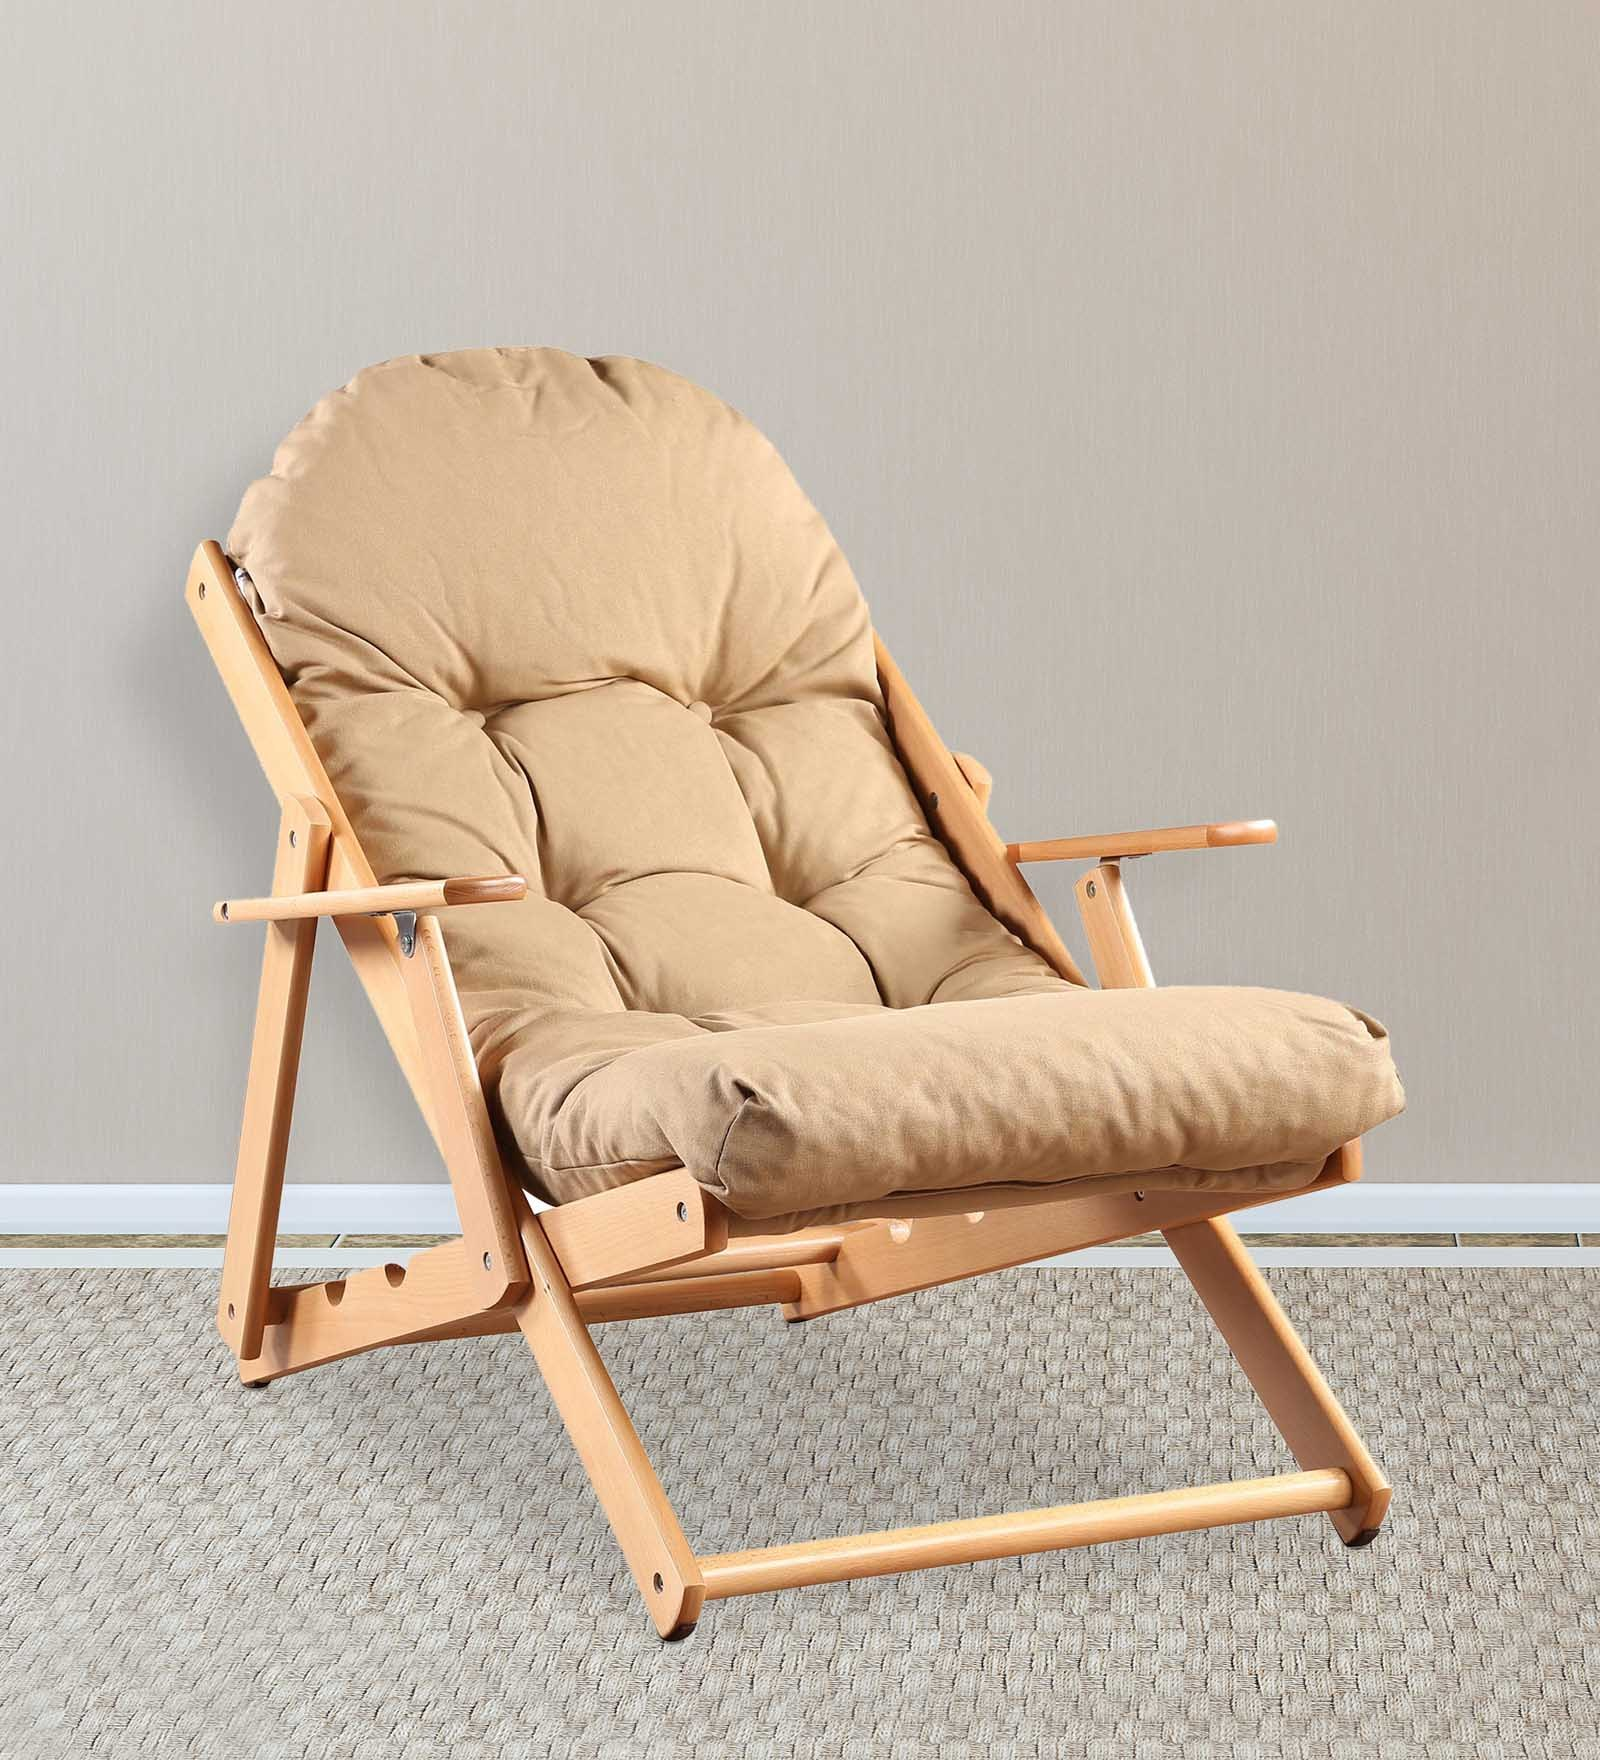Tulip Folding Chair in Beige Finish by HomeTown: (123, 270, 1477, 1660)
